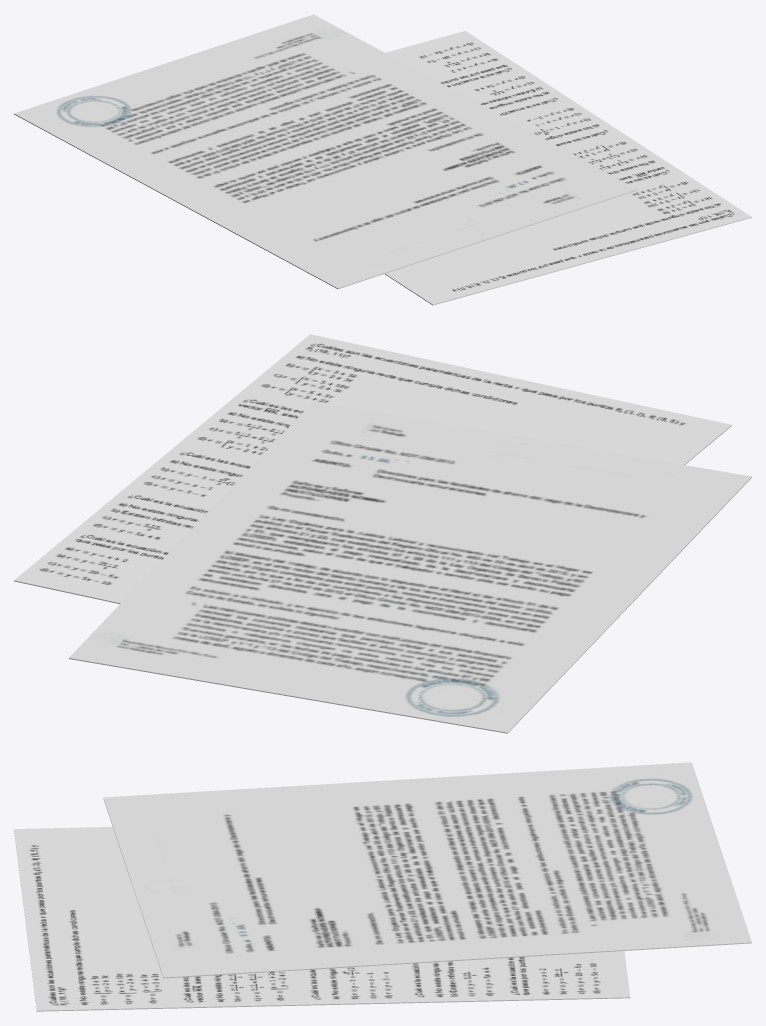
Rendered from Papers 2.FBX.
3 renders of one model, top to bottom at view 1: azimuth 30°, elevation 25°; view 2: azimuth 150°, elevation 25°; view 3: azimuth 270°, elevation 25°, orthographic. The views are drawn at different scales.
Visible parts, largest first — view 1: papers 2; view 2: papers 2; view 3: papers 2.
Boxes of the visible parts, <box> form: papers 2: <box>14,14,751,305</box>; papers 2: <box>14,334,751,733</box>; papers 2: <box>14,762,751,1011</box>.
Bounding box in the file's own units: 28.57 × 0.1034 × 36.01.
